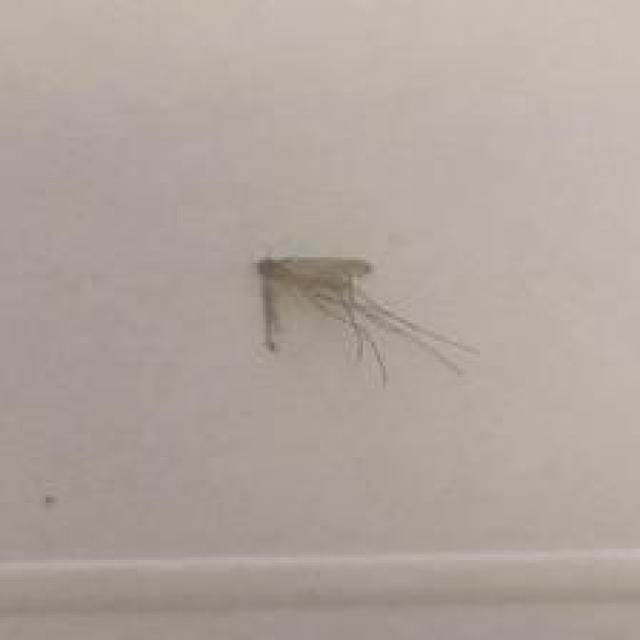Culex: (253, 251, 481, 386)
